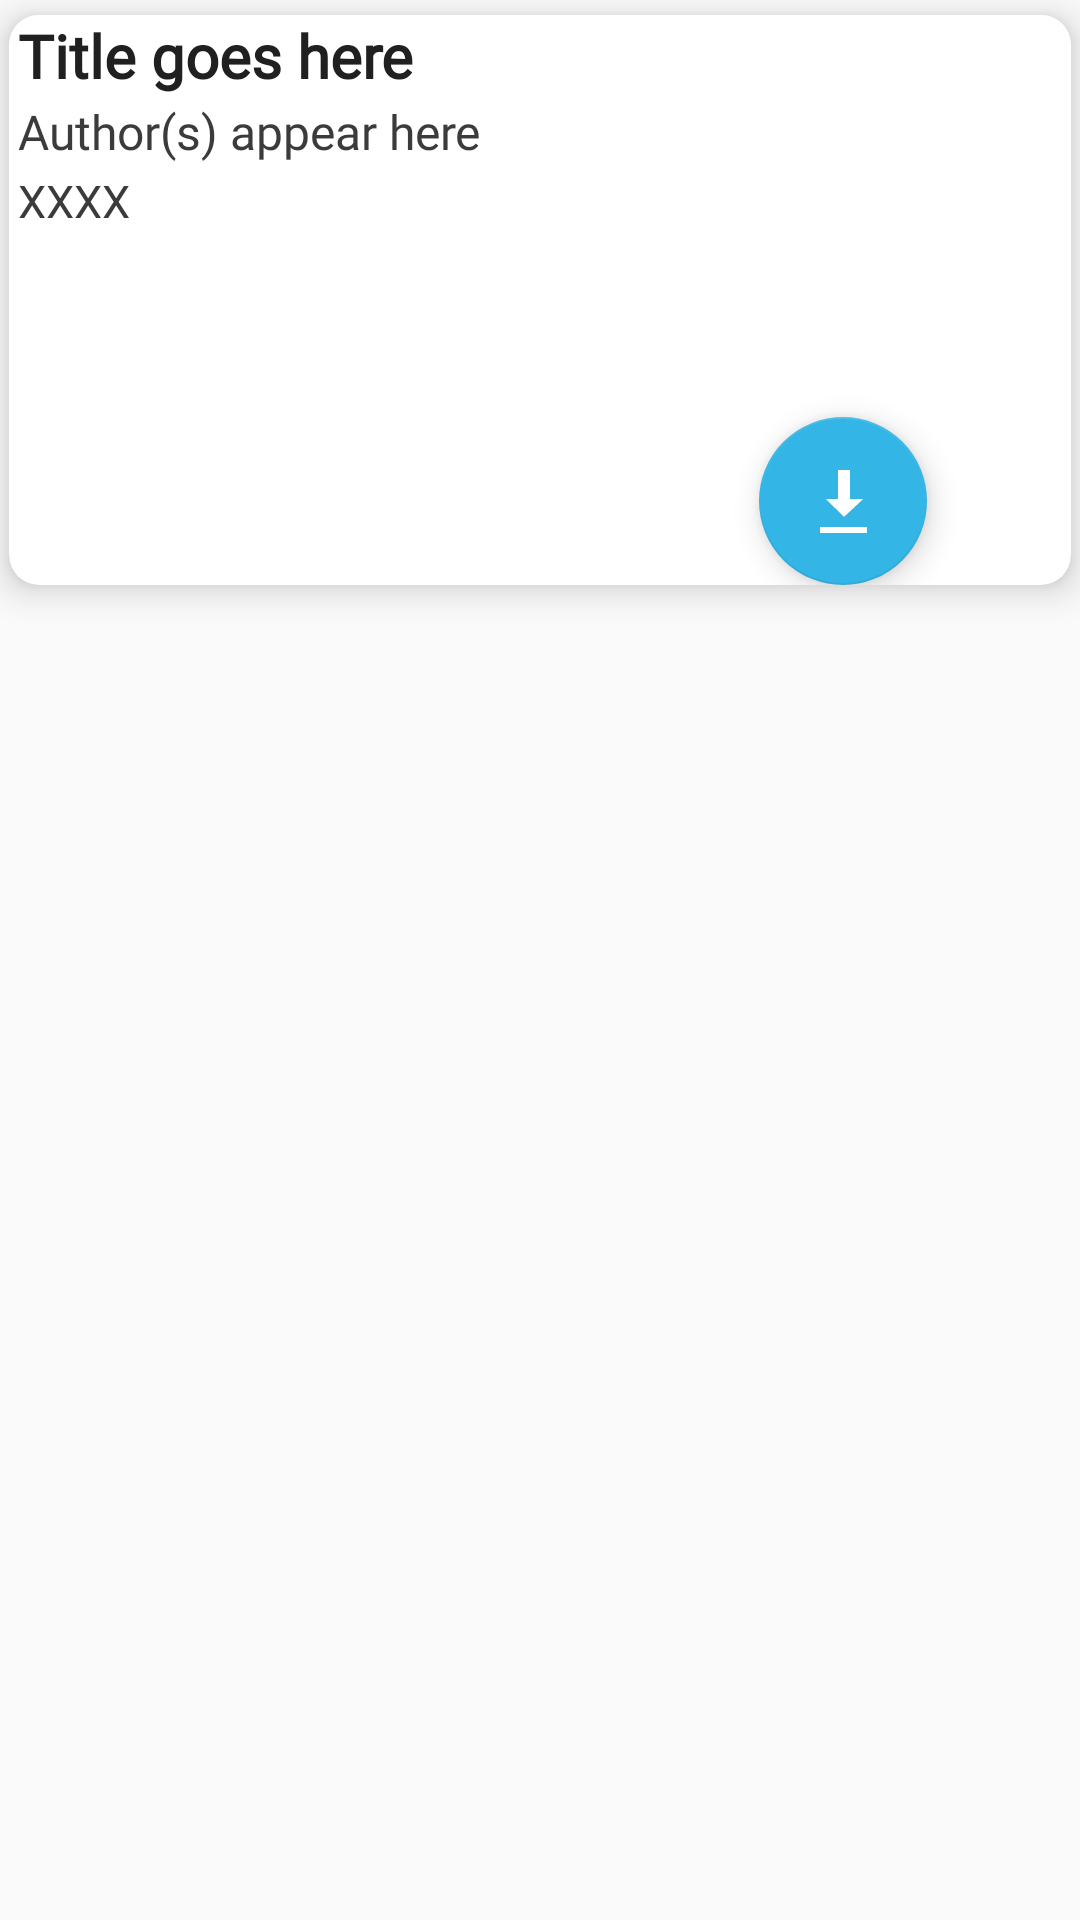

Point at icon controls on the screen. Image size 1080px x 1920px, points as (x,y).
download: (843,501)
